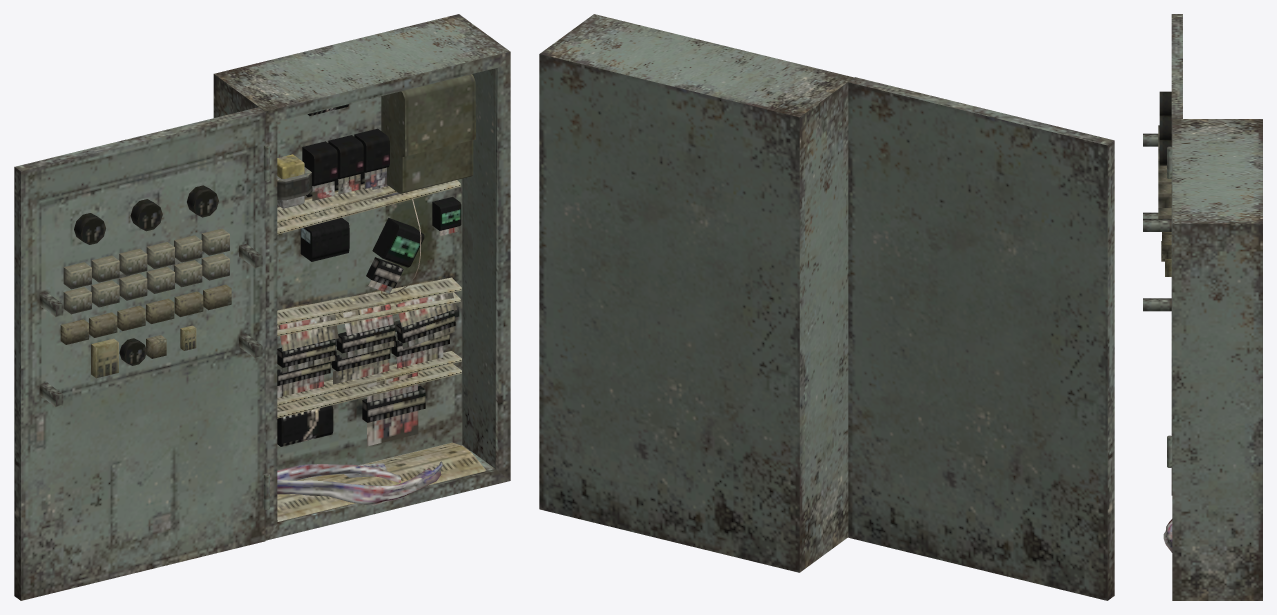
The model's file is sm22_017_switchboard08a.fbx.
3 views of the same model, side by side, from view 1: azimuth 30°, elevation 25°; view 2: azimuth 150°, elevation 25°; view 3: azimuth 270°, elevation 25° (orthographic). The views are drawn at different scales.
Parts seen in each view (by area): view 1: LOD_1_Group_0_Sub_1__sm22_017_Switchboard08A_A_Mat, LOD_1_Group_3_Sub_1__sm22_017_Switchboard08A_A_Mat, LOD_1_Group_4_Sub_1__sm22_017_Switchboard08A_A_Mat, LOD_1_Group_2_Sub_1__sm22_017_Switchboard08A_A_Mat, LOD_1_Group_5_Sub_1__sm22_017_Switchboard08A_B_Mat; view 2: LOD_1_Group_0_Sub_1__sm22_017_Switchboard08A_A_Mat; view 3: LOD_1_Group_0_Sub_1__sm22_017_Switchboard08A_A_Mat, LOD_1_Group_4_Sub_1__sm22_017_Switchboard08A_A_Mat, LOD_1_Group_1_Sub_1__sm22_017_Switchboard08A_A_Mat, LOD_1_Group_5_Sub_1__sm22_017_Switchboard08A_B_Mat.
Boxes of the visible parts, bbox=[...] form: LOD_1_Group_0_Sub_1__sm22_017_Switchboard08A_A_Mat: bbox=[14, 14, 510, 600]; LOD_1_Group_3_Sub_1__sm22_017_Switchboard08A_A_Mat: bbox=[277, 74, 475, 446]; LOD_1_Group_4_Sub_1__sm22_017_Switchboard08A_A_Mat: bbox=[39, 185, 262, 406]; LOD_1_Group_2_Sub_1__sm22_017_Switchboard08A_A_Mat: bbox=[277, 180, 485, 521]; LOD_1_Group_5_Sub_1__sm22_017_Switchboard08A_B_Mat: bbox=[277, 167, 458, 505]; LOD_1_Group_0_Sub_1__sm22_017_Switchboard08A_A_Mat: bbox=[539, 14, 1114, 600]; LOD_1_Group_0_Sub_1__sm22_017_Switchboard08A_A_Mat: bbox=[1171, 14, 1262, 600]; LOD_1_Group_4_Sub_1__sm22_017_Switchboard08A_A_Mat: bbox=[1143, 91, 1171, 311]; LOD_1_Group_1_Sub_1__sm22_017_Switchboard08A_A_Mat: bbox=[1167, 146, 1172, 467]; LOD_1_Group_5_Sub_1__sm22_017_Switchboard08A_B_Mat: bbox=[1163, 519, 1172, 552].
Bounding box in the file's own units: 1.1 × 0.9201 × 0.265.
